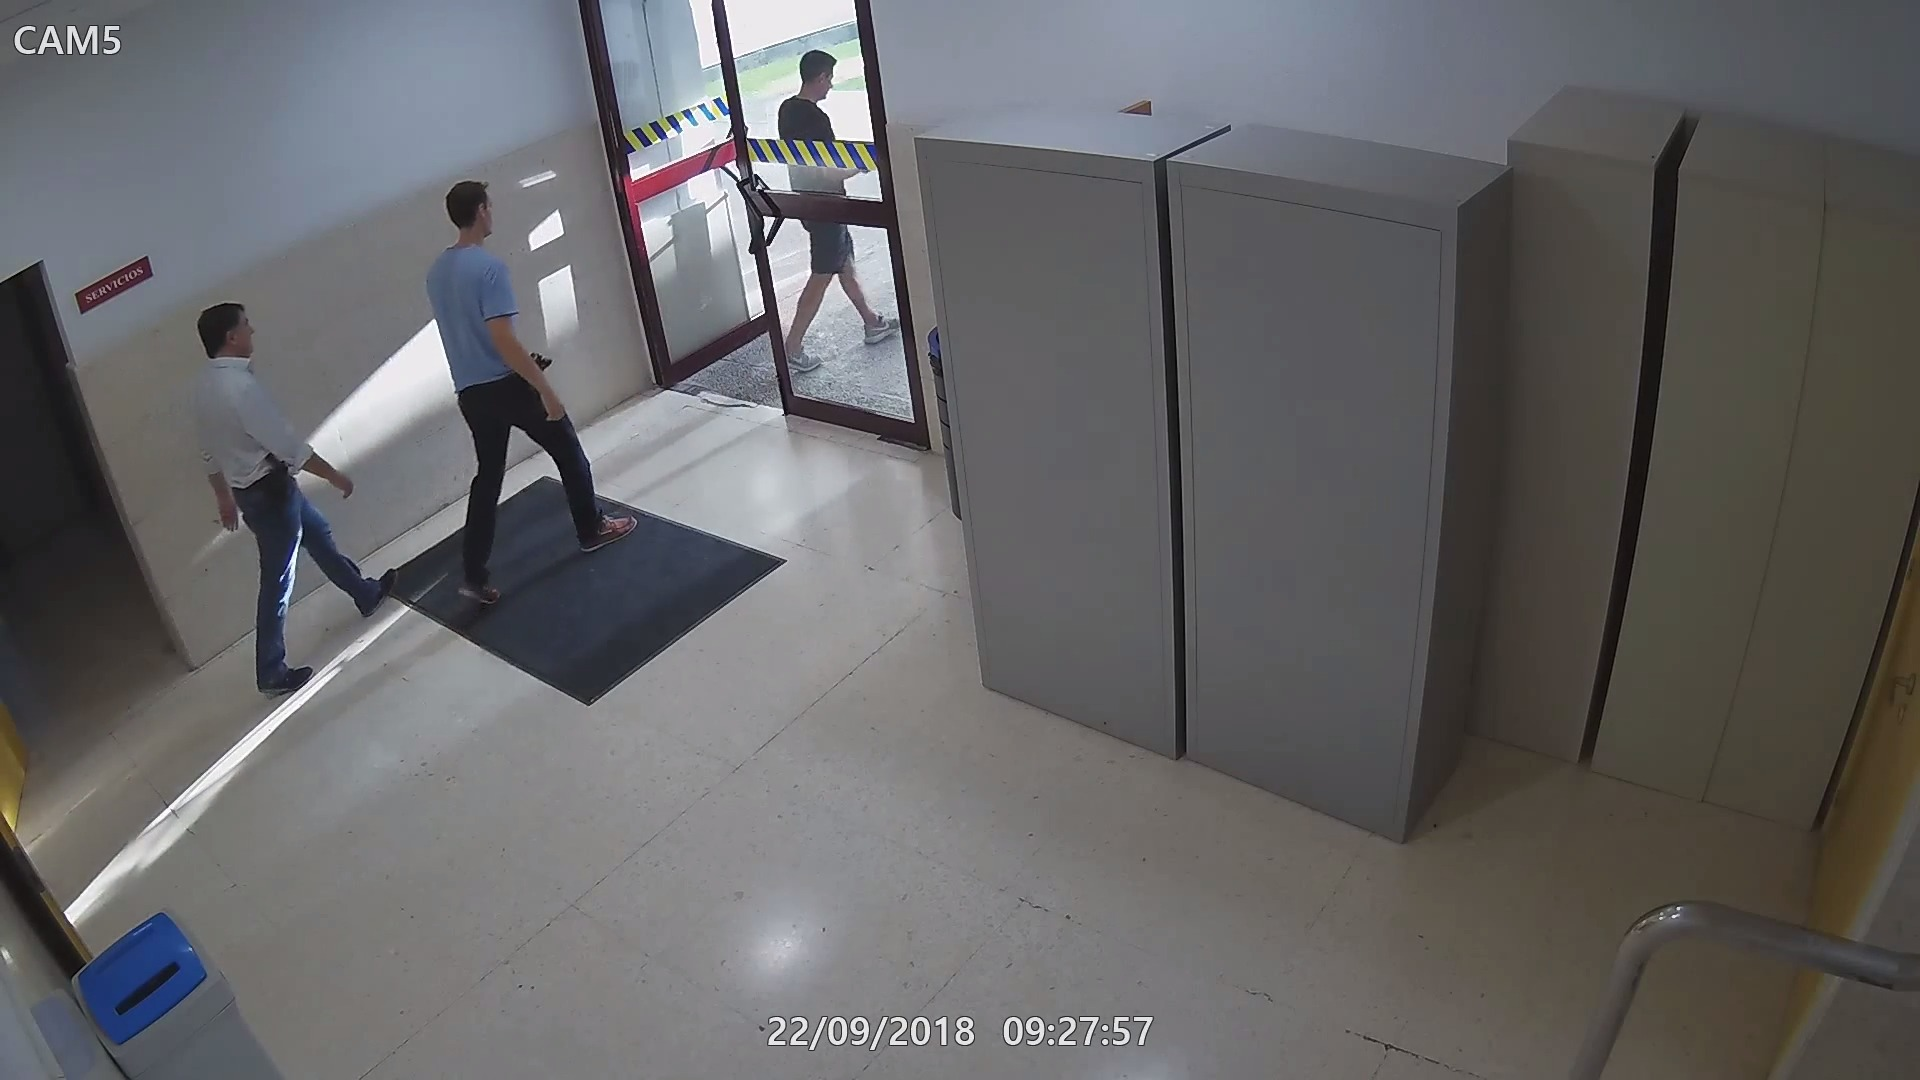Handgun: (262, 450, 297, 495), (527, 347, 554, 373)
